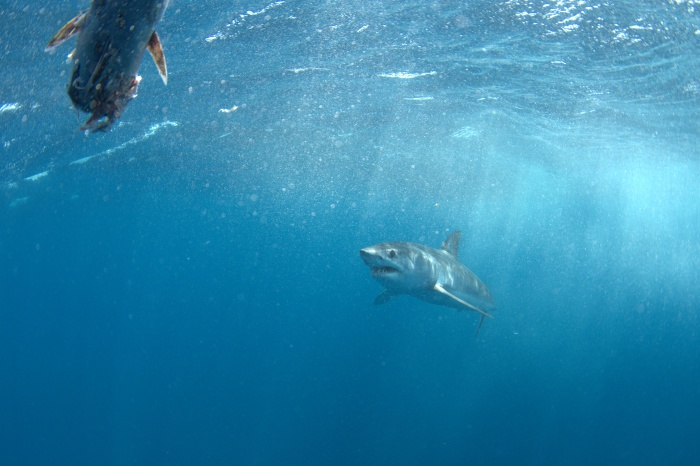Mako: (343, 214, 513, 339)
